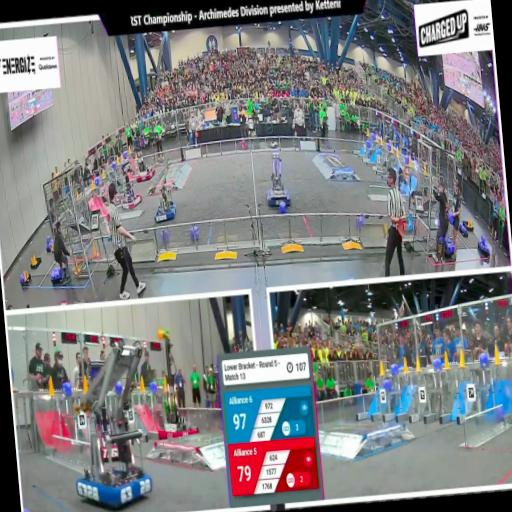robot: (64, 342, 158, 512), (146, 325, 200, 441), (144, 160, 182, 224), (128, 121, 156, 183), (264, 150, 292, 210), (396, 166, 418, 234), (116, 165, 144, 212)
